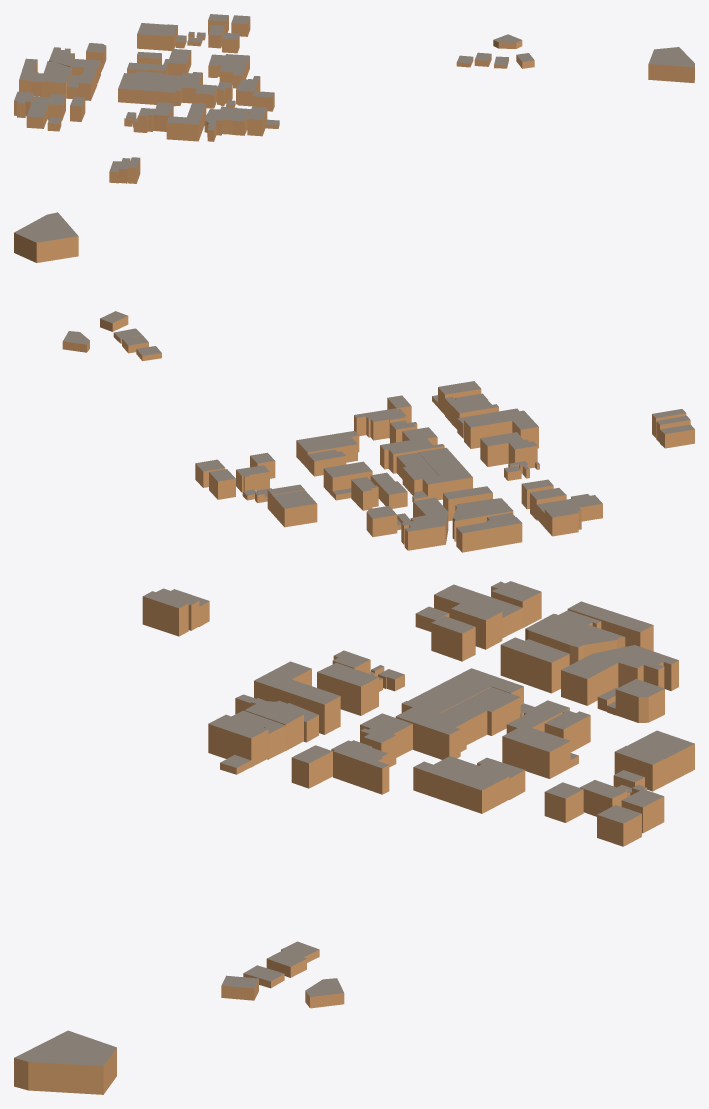
File: Coffs-Harour_OSM_Buildings.fbx
3 views of the same model, one above another, from view 1: azimuth 30°, elevation 25°; view 2: azimuth 150°, elevation 25°; view 3: azimuth 270°, elevation 25° (orthographic). The views are drawn at different scales.
Visible parts, largest first — view 1: map_4.osm_buildings; view 2: map_4.osm_buildings; view 3: map_4.osm_buildings.
Part boxes in pixels (x1,y1,x2,y2): map_4.osm_buildings: (14, 14, 694, 183); map_4.osm_buildings: (14, 212, 694, 552); map_4.osm_buildings: (14, 581, 694, 1094).
Size of the model in its own units: 665 by 22.43 by 390.
